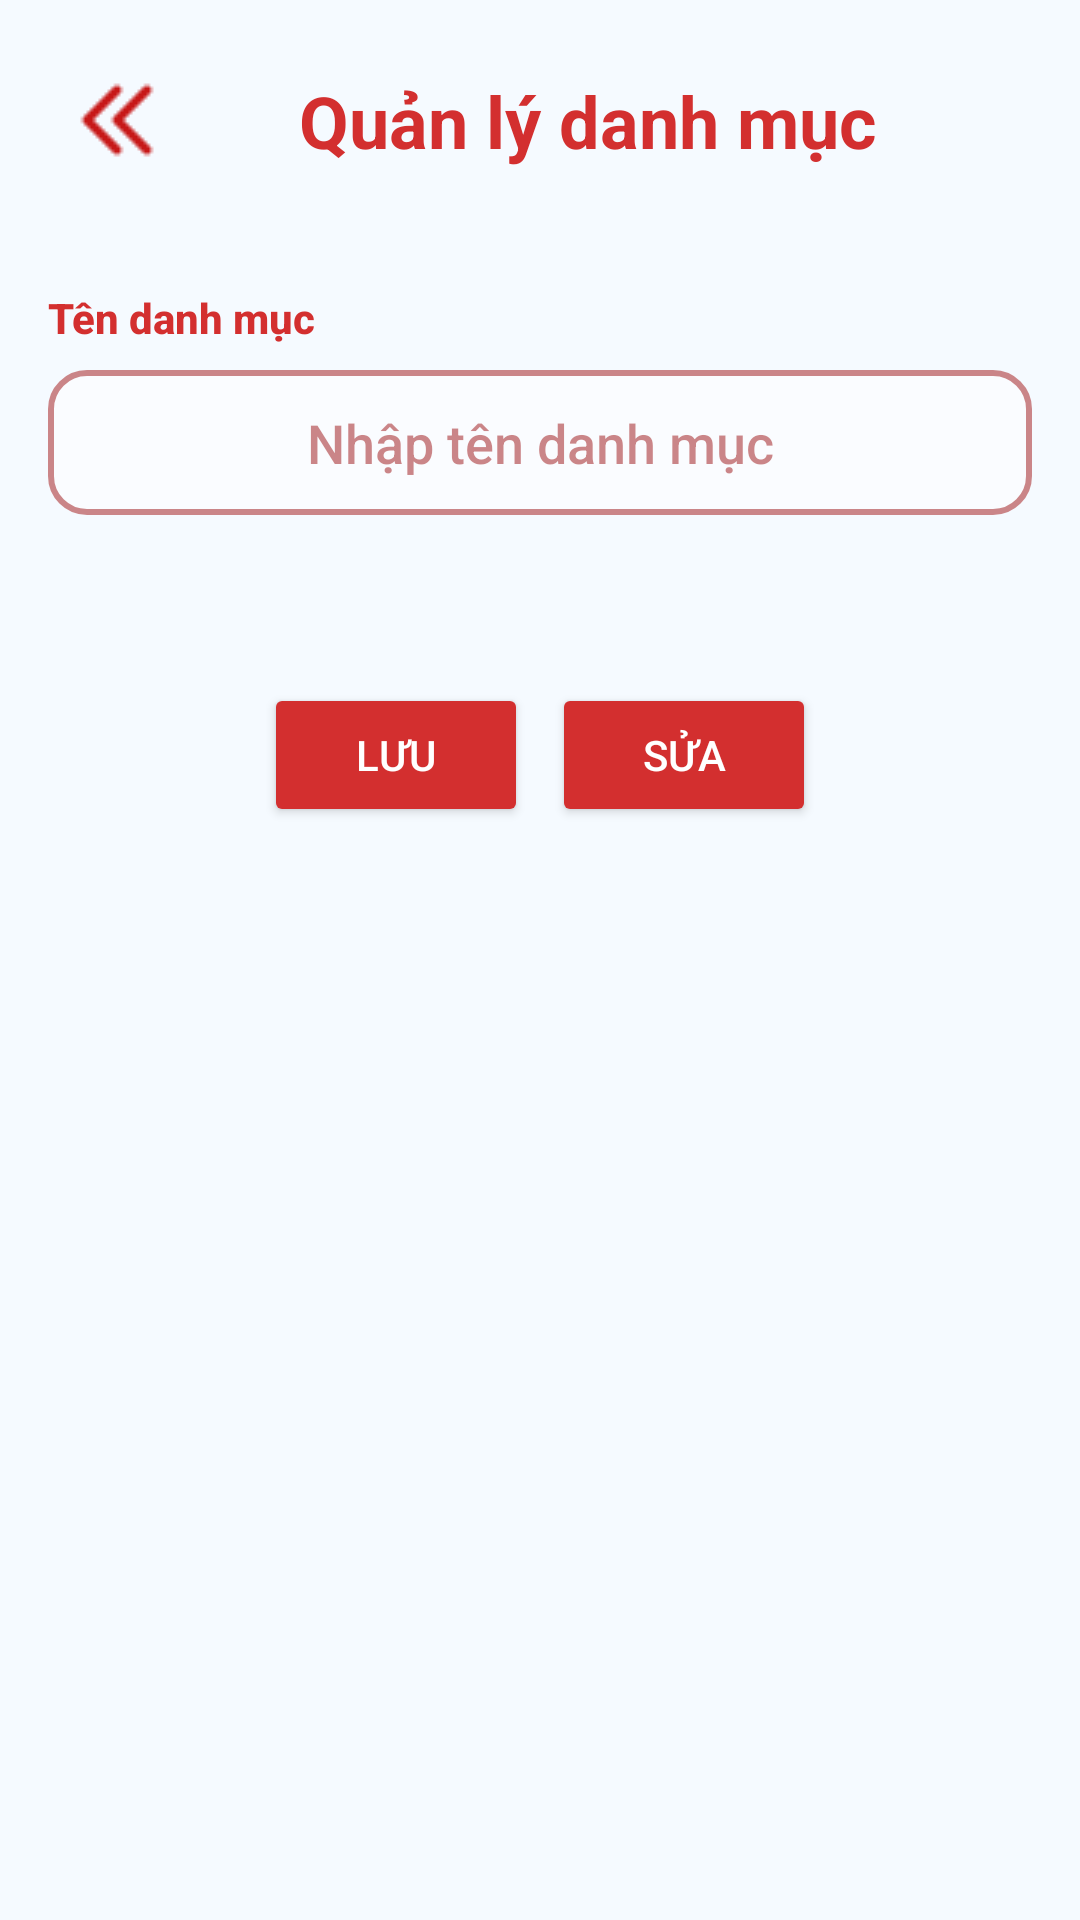

Point at icon controls on the screen. Image size 1080 × 1920, points as (x,y).
back: (117,120)
